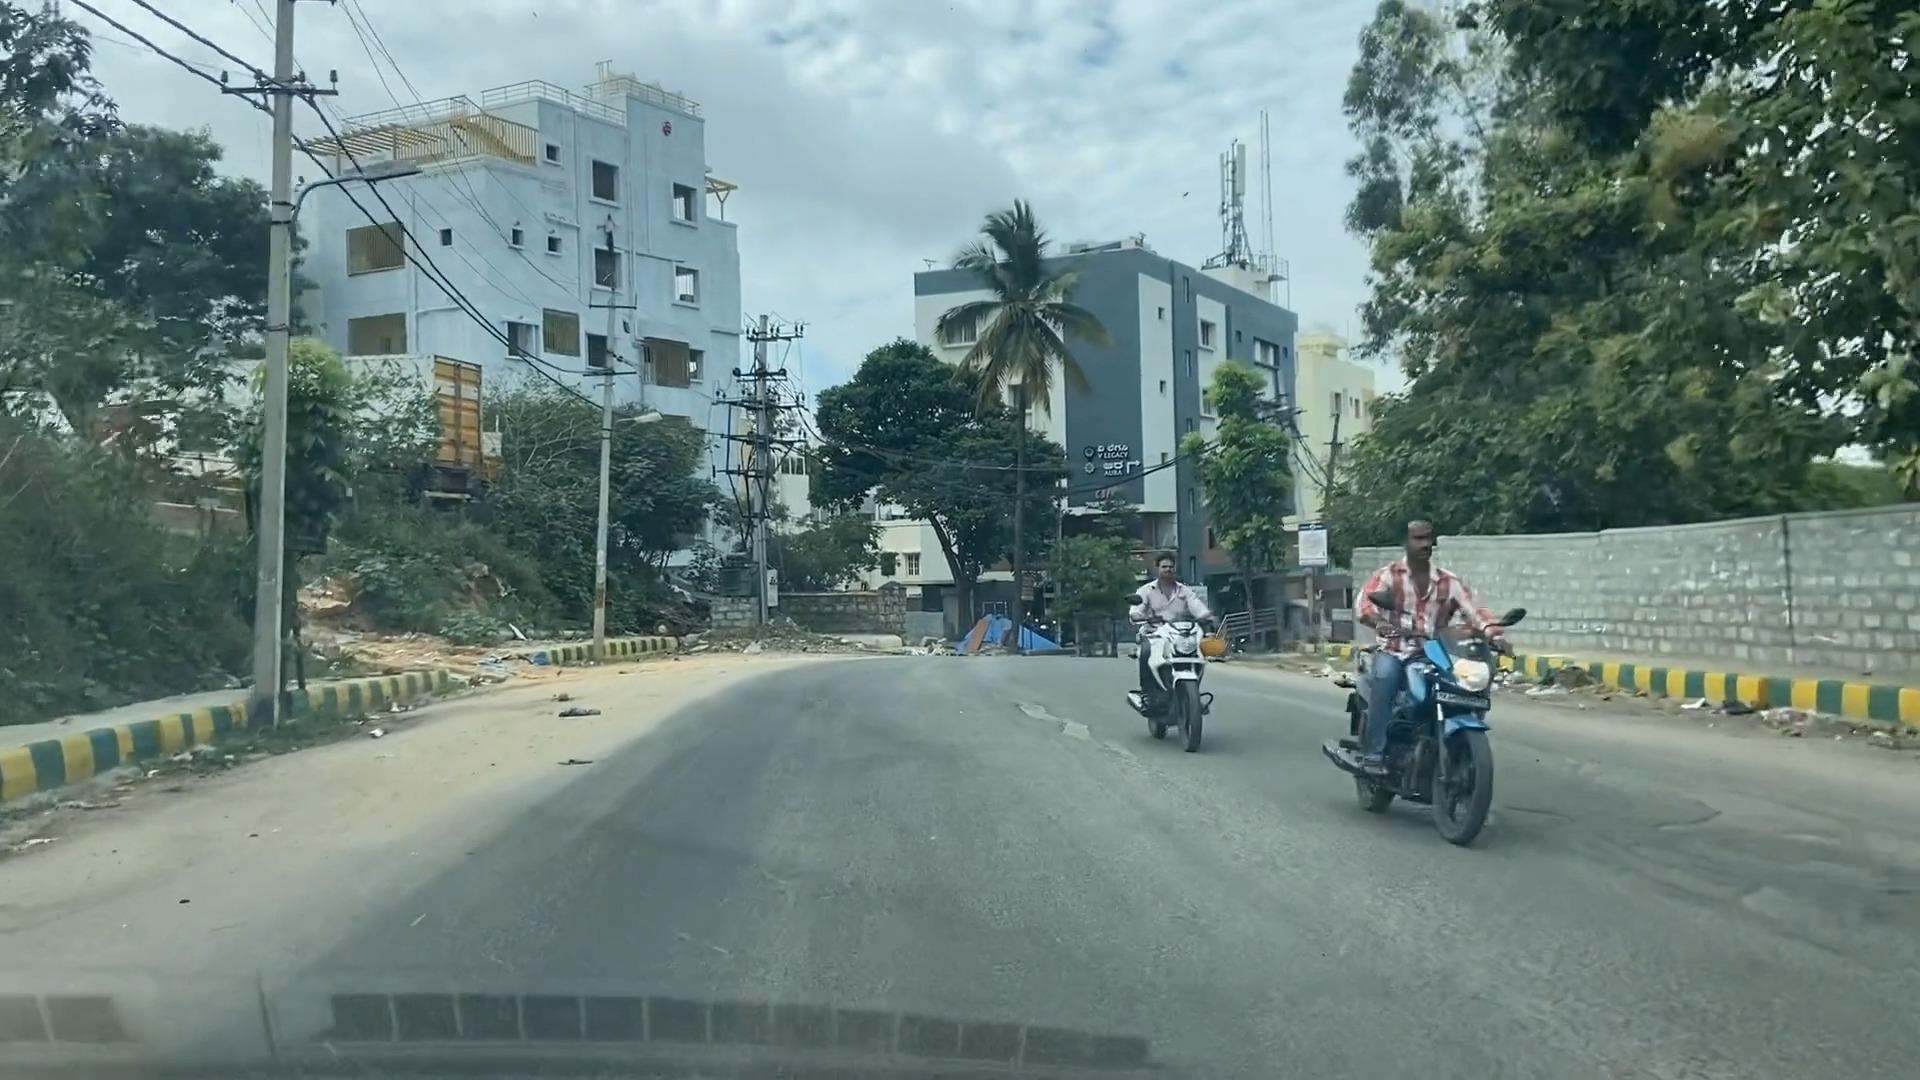RoadDamages: (1613, 757, 1888, 964), (976, 682, 1129, 789)
